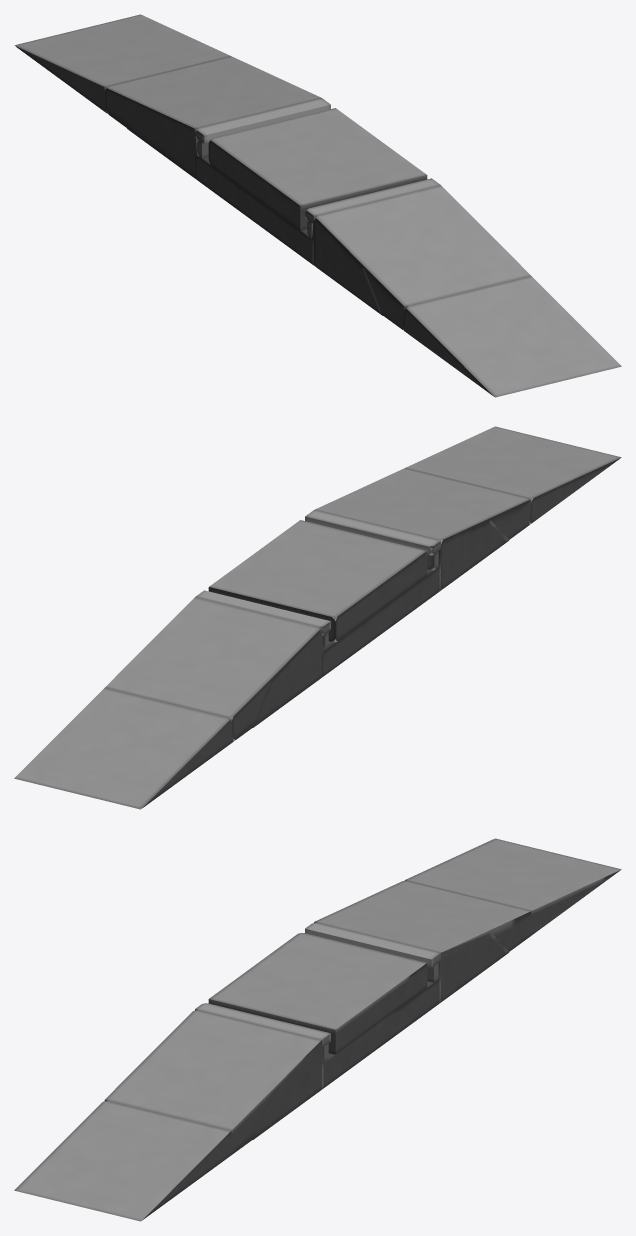
File: vanilla_crossing.obj
3 renders of one model, top to bottom at view 1: azimuth 30°, elevation 25°; view 2: azimuth 150°, elevation 25°; view 3: azimuth 330°, elevation 25°, orthographic.
Visible parts, largest first — view 1: RAIL_LEFT, RAIL_RIGHT, RAIL_BASE; view 2: RAIL_RIGHT, RAIL_LEFT, RAIL_BASE; view 3: RAIL_LEFT, RAIL_RIGHT, RAIL_BASE.
Boxes of the visible parts, x1,y1,x2,y2 form: RAIL_LEFT: [305, 178, 621, 397]; RAIL_RIGHT: [14, 14, 330, 179]; RAIL_BASE: [195, 108, 427, 265]; RAIL_RIGHT: [14, 590, 330, 809]; RAIL_LEFT: [305, 426, 621, 590]; RAIL_BASE: [208, 520, 440, 677]; RAIL_LEFT: [14, 1003, 330, 1221]; RAIL_RIGHT: [305, 838, 621, 1004]; RAIL_BASE: [208, 933, 440, 1089].
Size of the model in its own units: 1 by 0.375 by 6.57.
1 material, 1 textured.
